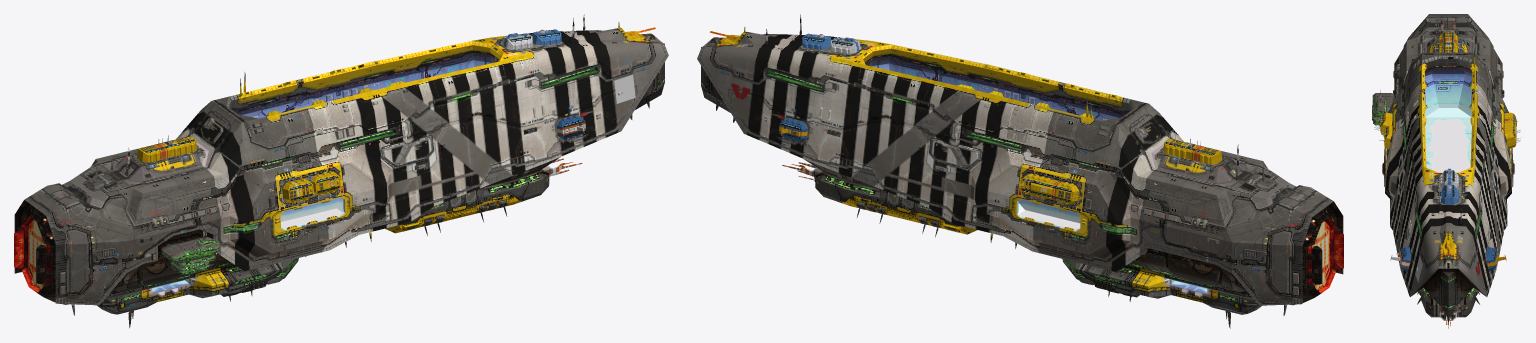
Rendered from Eriax_Battlecrusier.FBX.
The picture shows the model from 3 angles, left to right: view 1: azimuth 30°, elevation 25°; view 2: azimuth 150°, elevation 25°; view 3: azimuth 270°, elevation 25°; orthographic projection. The views are drawn at different scales.
Parts seen in each view (by area): view 1: group1, group2, group4, group11, group21, group3, group18, group31, group14, group110, group5, group12; view 2: group1, group2, group4, group11, group21, group3, group16, group18, group31, group17, group112, group6; view 3: group1, group2, group4, group11, group21, group115, group31, group16, group19, group117, group110, group112 (+5 smaller).
Part boxes in pixels (x1,y1,x2,y2): group1: (15,27,668,314); group2: (14,30,663,305); group4: (152,41,503,293); group11: (71,14,649,328); group21: (24,30,590,294); group3: (14,216,50,292); group18: (137,136,196,162); group31: (238,61,405,116); group14: (282,178,314,202); group110: (556,116,585,139); group5: (614,74,635,103); group12: (311,171,340,195); group1: (697,31,1342,314); group2: (702,34,1343,305); group4: (860,44,1207,293); group11: (716,14,1286,328); group21: (761,35,1333,295); group3: (1308,218,1343,293); group16: (1020,174,1079,204); group18: (1163,138,1222,164); group31: (957,64,1122,118); group17: (1020,173,1073,204); group112: (778,118,807,141); group6: (730,78,750,106); group1: (1372,53,1513,318); group2: (1394,14,1502,296); group4: (1422,55,1474,172); group11: (1377,15,1514,323); group21: (1393,27,1504,226); group115: (1441,184,1457,204); group31: (1422,64,1474,126); group16: (1504,113,1516,148); group19: (1439,31,1457,52); group117: (1441,168,1457,187); group110: (1390,247,1410,270); group112: (1486,247,1506,270).
Size of the model in its own units: 2600 by 836 by 596.
